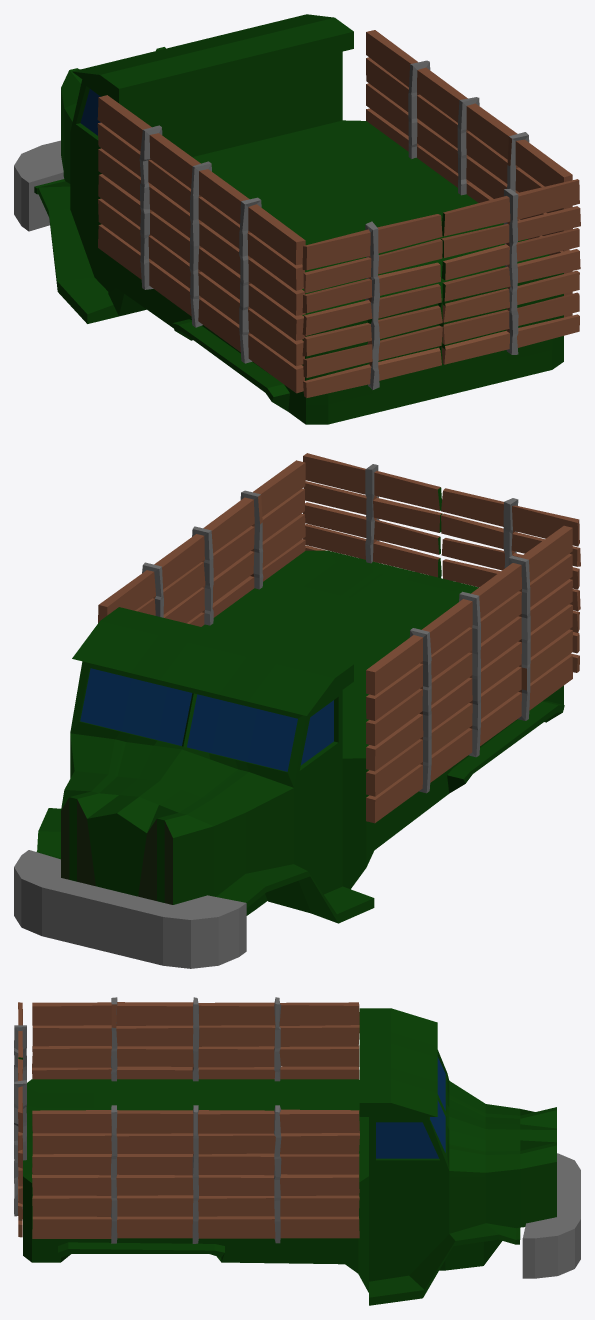
File: Truck.fbx
3 renders of one model, top to bottom at view 1: azimuth 30°, elevation 25°; view 2: azimuth 150°, elevation 25°; view 3: azimuth 270°, elevation 25°, orthographic. The views are drawn at different scales.
Parts seen in each view (by area): view 1: Truck; view 2: Truck; view 3: Truck.
Boxes of the visible parts, box(x1,y1,x2,y2) form: Truck: box(14, 14, 580, 424); Truck: box(14, 453, 580, 968); Truck: box(14, 997, 580, 1305).
Size of the model in its own units: 268 by 209 by 547.
